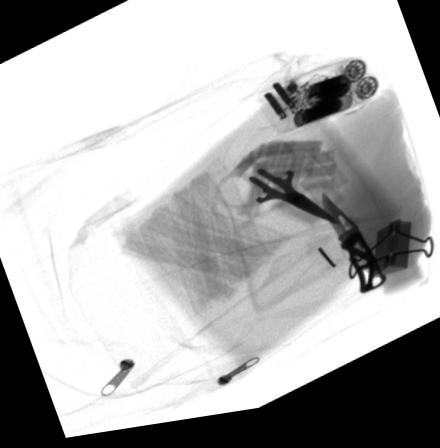Knife: (319, 199, 385, 305)
Scissors: (211, 146, 340, 235)
